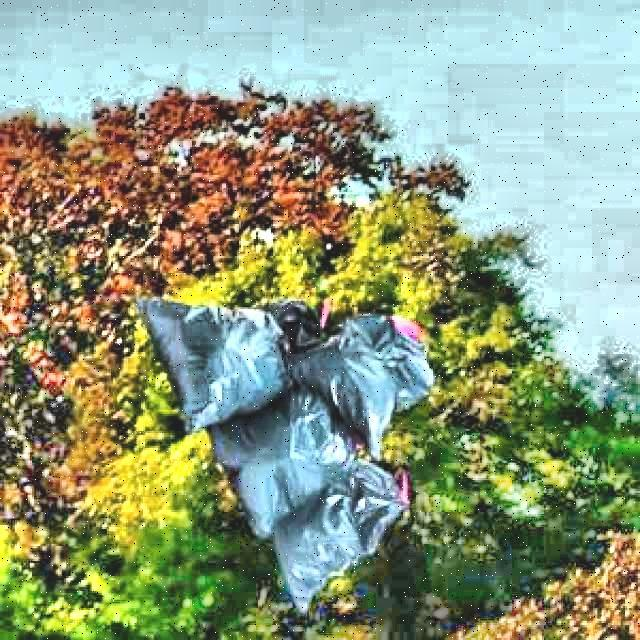Trashbag: (225, 415, 343, 522), (164, 296, 272, 406), (318, 326, 418, 435), (353, 485, 390, 535)
